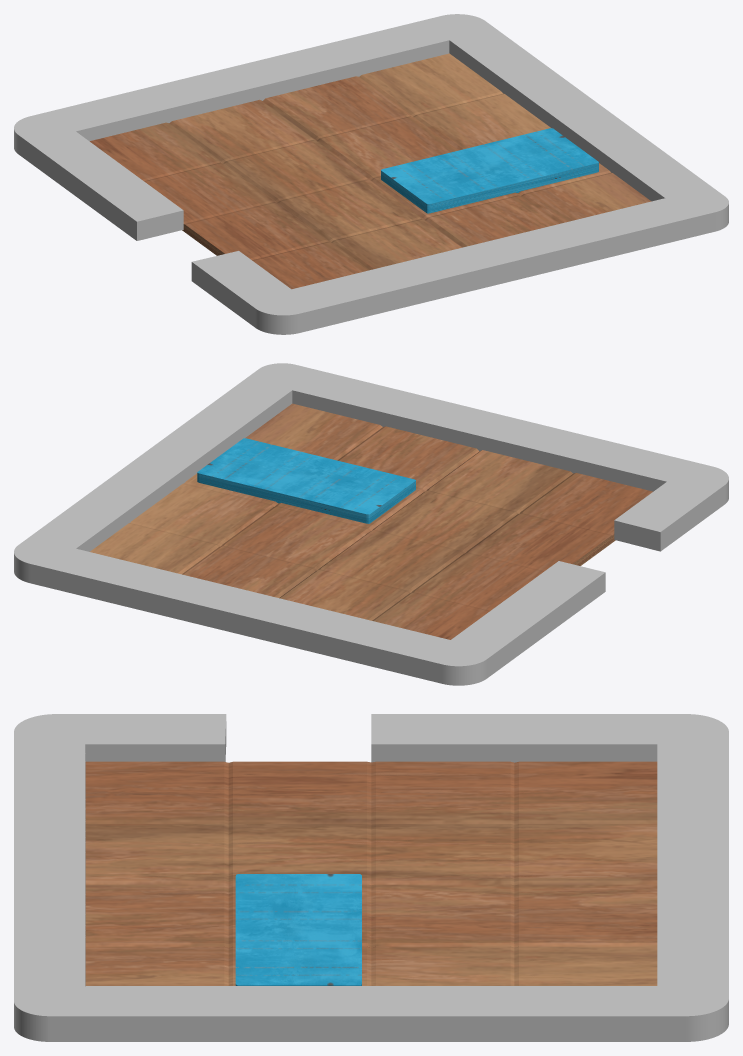
Rendered from SlidingBlock.fbx.
The picture shows the model from 3 angles, top to bottom: view 1: azimuth 30°, elevation 25°; view 2: azimuth 150°, elevation 25°; view 3: azimuth 270°, elevation 25°; orthographic projection. The views are drawn at different scales.
Parts seen in each view (by area): view 1: PhotoFrame, Cube, Cube.001; view 2: PhotoFrame, Cube, Cube.001; view 3: Cube, PhotoFrame, Cube.001.
Part boxes in pixels (x1=…): PhotoFrame: x1=14, y1=14, x2=728, y2=334; Cube: x1=90, y1=53, x2=651, y2=289; Cube.001: x1=381, y1=128, x2=598, y2=213; PhotoFrame: x1=14, y1=363, x2=728, y2=685; Cube: x1=90, y1=403, x2=652, y2=639; Cube.001: x1=197, y1=438, x2=415, y2=523; Cube: x1=85, y1=761, x2=657, y2=985; PhotoFrame: x1=14, y1=714, x2=728, y2=1041; Cube.001: x1=235, y1=874, x2=361, y2=985.
Bounding box in the file's own units: 1.22 × 0.053 × 1.22.
